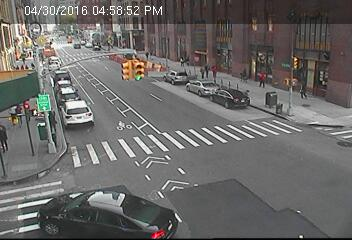neg: (274, 16, 293, 42), (141, 168, 160, 193), (307, 134, 324, 157), (80, 71, 94, 90), (114, 114, 128, 132), (219, 142, 233, 160), (187, 29, 201, 47), (166, 73, 178, 89), (329, 46, 341, 62), (226, 9, 237, 24), (45, 47, 56, 62), (17, 162, 28, 176), (271, 103, 281, 117), (31, 107, 40, 120), (132, 71, 141, 83), (148, 3, 157, 15), (142, 30, 150, 41), (68, 32, 76, 41), (65, 54, 73, 63), (84, 44, 91, 54), (208, 116, 215, 125), (36, 29, 41, 36), (22, 199, 26, 205)
pos: (8, 100, 26, 124), (254, 68, 270, 90), (296, 78, 311, 99), (208, 64, 221, 83), (5, 104, 18, 121), (201, 61, 212, 76), (196, 66, 207, 80), (240, 67, 250, 81), (179, 55, 187, 66), (144, 51, 152, 61), (12, 62, 20, 72), (30, 60, 37, 70), (18, 63, 24, 72), (27, 49, 33, 58), (23, 63, 28, 70)
